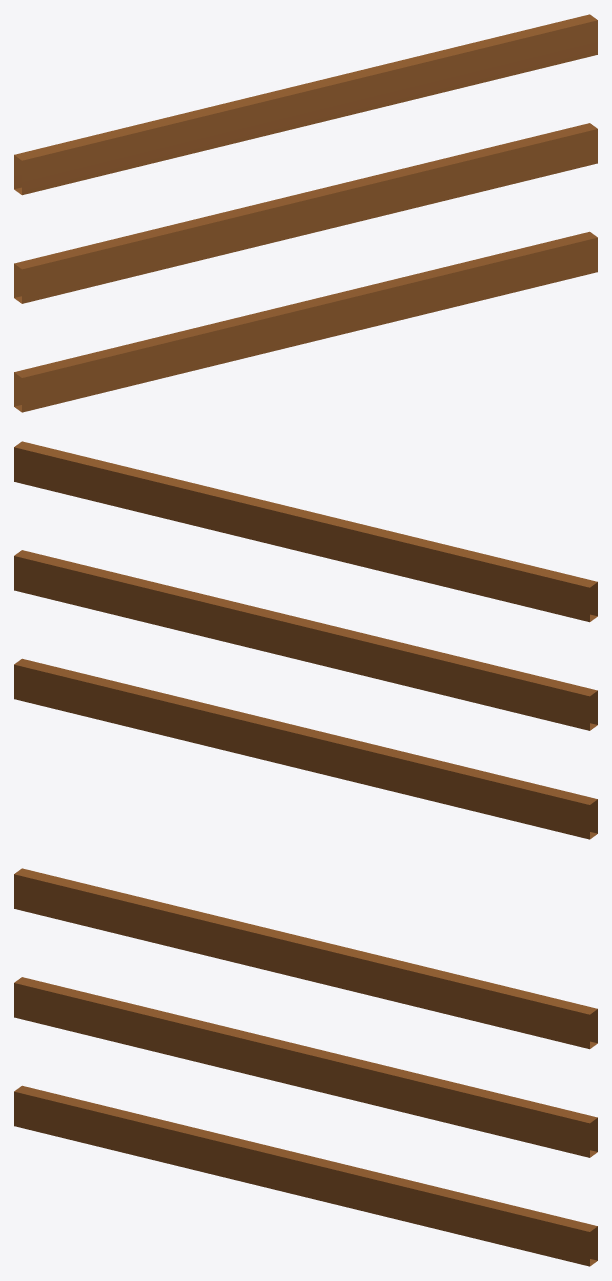
Rendered from Bld_02_Fence_Wood_01.obj.
3 views of the same model, one above another, from view 1: azimuth 30°, elevation 25°; view 2: azimuth 150°, elevation 25°; view 3: azimuth 330°, elevation 25° (orthographic).
Parts seen in each view (by area): view 1: Bld_02_Fence_Wood_01; view 2: Bld_02_Fence_Wood_01; view 3: Bld_02_Fence_Wood_01.
Boxes of the visible parts, box(x1,y1,x2,y2) form: Bld_02_Fence_Wood_01: box(14, 14, 597, 412); Bld_02_Fence_Wood_01: box(14, 441, 597, 839); Bld_02_Fence_Wood_01: box(14, 868, 597, 1266).
Size of the model in its own units: 2.44 by 1.02 by 0.0591.
1 material, 1 textured.
